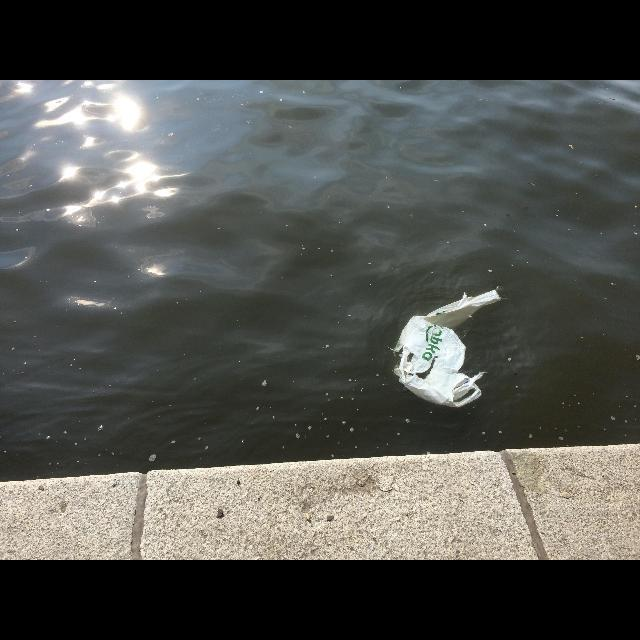Plastic: (388, 289, 500, 407)
